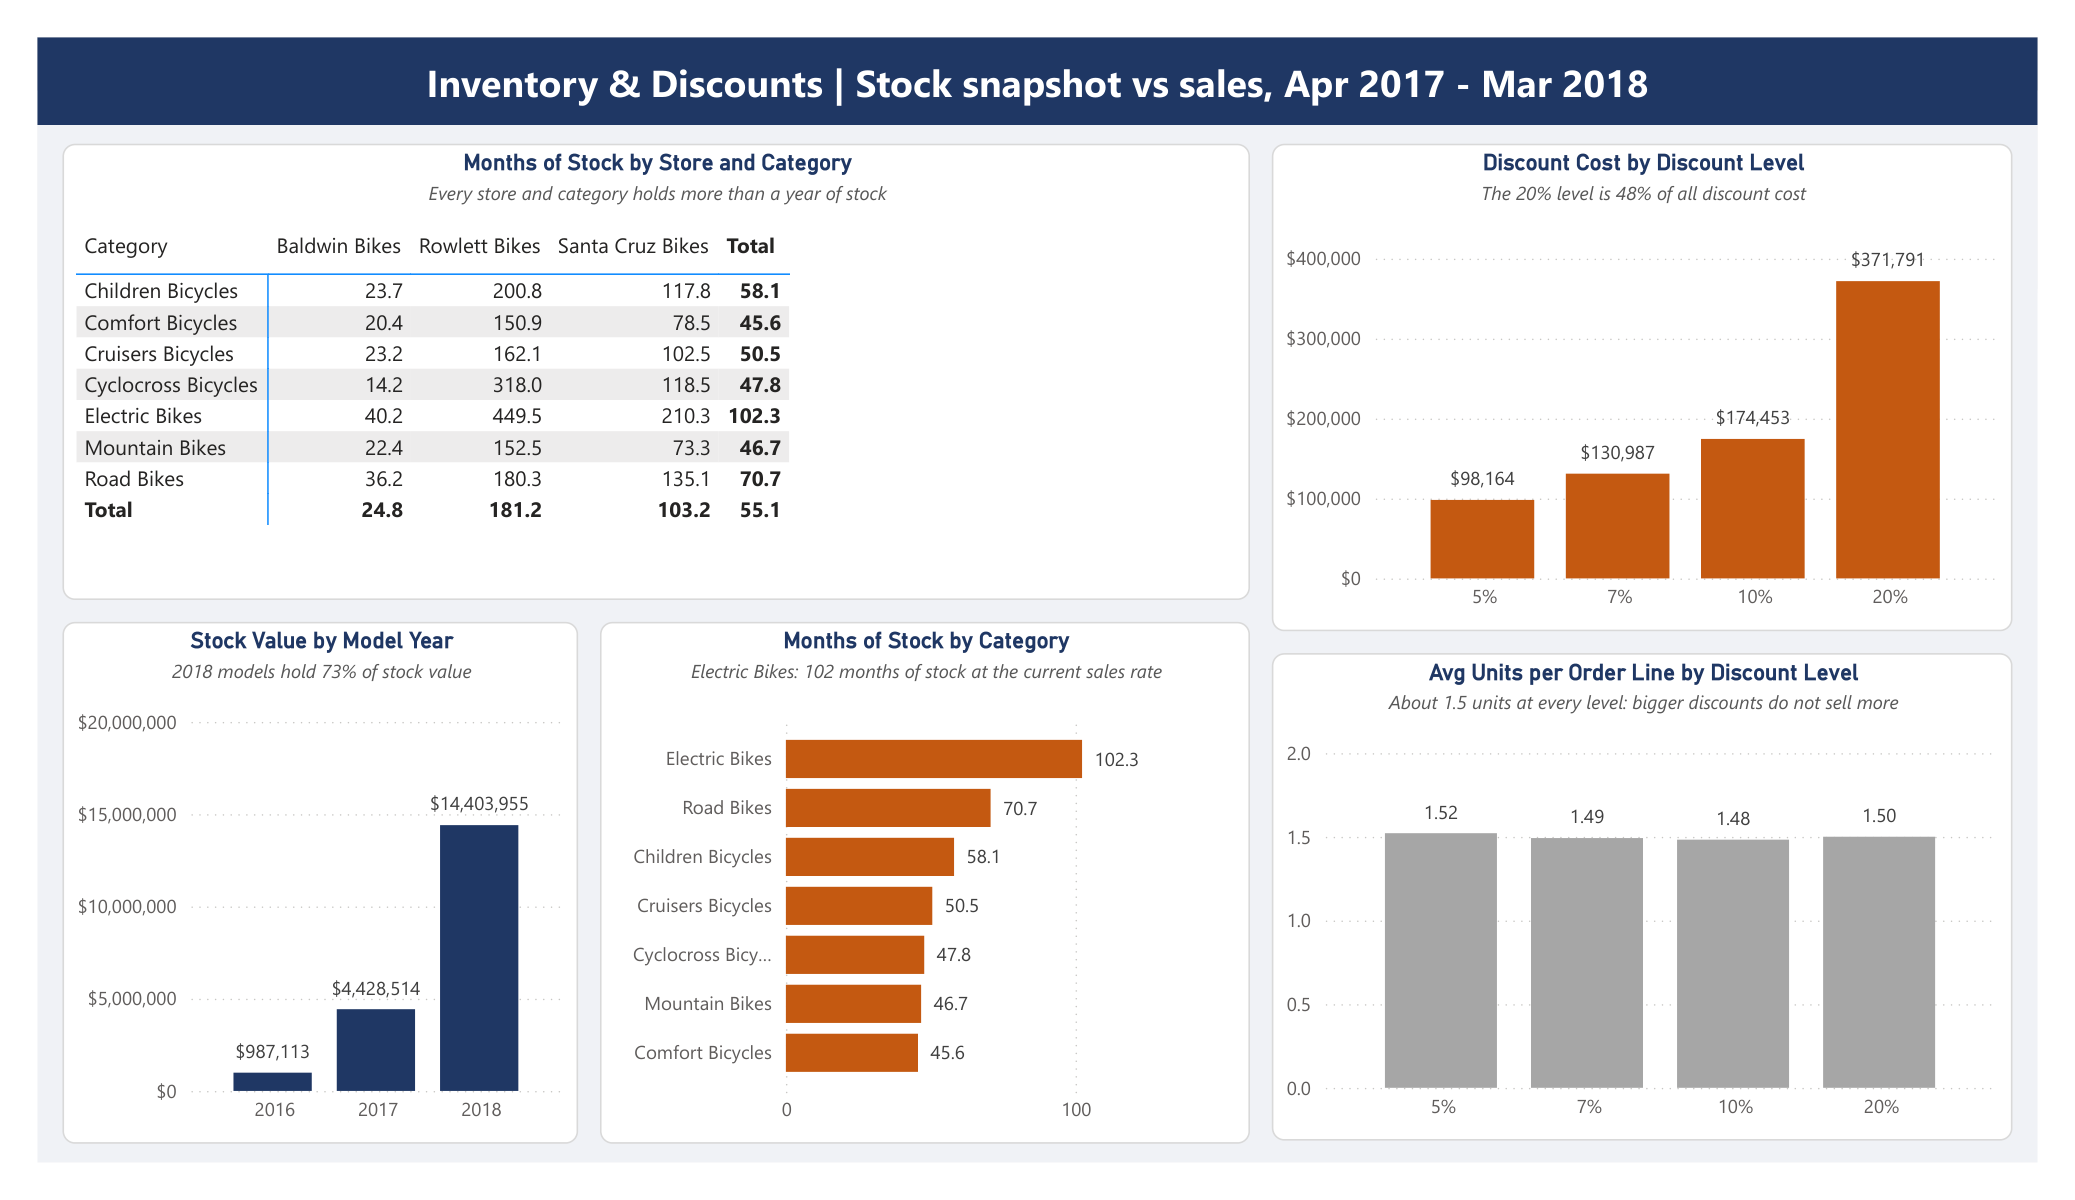

The page's visual inventory and layout, read from the dashboard file:
{"tool":"powerbi","page":{"name":"Inventory & Discounts","canvas":[1280,720],"ordinal":3},"visuals":[{"type":"shape","box":[0,0,1280,56],"z":23000},{"type":"pivotTable","title":"Months of Stock by Store and Category","fields":{"Columns":["Stores.Store"],"Rows":["Products.Category"],"Values":["Stock.Months of Stock"]},"box":[16,68,760,292],"z":24000},{"type":"clusteredColumnChart","title":"Stock Value by Model Year","fields":{"Category":["Products.Model Year"],"Y":["Stock.Stock Value"]},"box":[16,374,330,334],"z":25000},{"type":"clusteredBarChart","title":"Months of Stock by Category","fields":{"Category":["Products.Category"],"Y":["Stock.Months of Stock"]},"box":[360,374,416,334],"z":26000},{"type":"clusteredColumnChart","title":"Discount Cost by Discount Level","fields":{"Category":["Sales.Discount Level"],"Y":["Sales.Discount Amount"]},"box":[790,68,474,312],"z":27000},{"type":"clusteredColumnChart","title":"Avg Units per Order Line by Discount Level","fields":{"Category":["Sales.Discount Level"],"Y":["Sales.Avg Units per Line"]},"box":[790,394,474,312],"z":28000}]}

Visuals, with their boxes on the page's 1280x720 design canvas (x1, y1, x2, y2). These are canvas units, not pixel positions in the 2075x1200 screenshot, which may show the page scaled, cropped or inside an application window:
shape: box=[0, 0, 1280, 56]
"Months of Stock by Store and Category" pivotTable: box=[16, 68, 776, 360]
"Stock Value by Model Year" clusteredColumnChart: box=[16, 374, 346, 708]
"Months of Stock by Category" clusteredBarChart: box=[360, 374, 776, 708]
"Discount Cost by Discount Level" clusteredColumnChart: box=[790, 68, 1264, 380]
"Avg Units per Order Line by Discount Level" clusteredColumnChart: box=[790, 394, 1264, 706]
